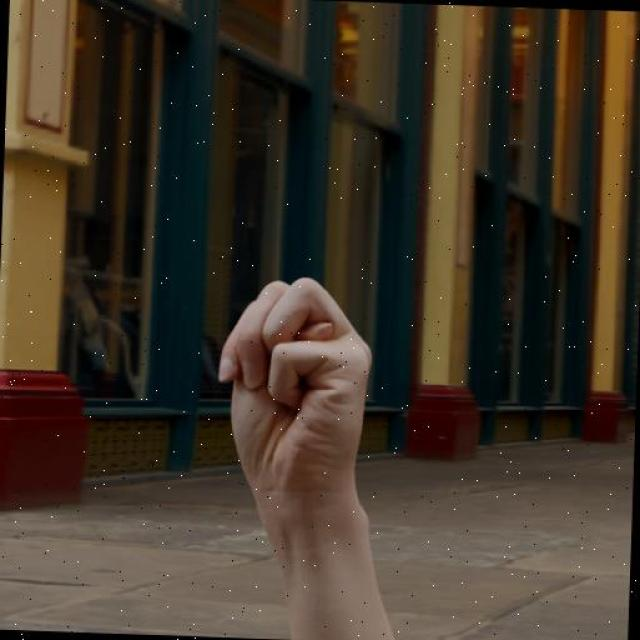M: (211, 271, 380, 543)
